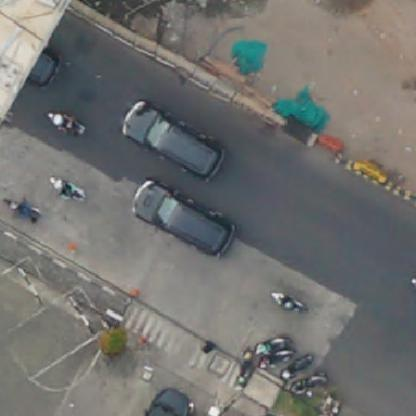Car: (122, 96, 228, 180), (130, 180, 238, 261), (141, 385, 201, 415), (23, 49, 61, 90)
Motorcycle: (46, 108, 90, 144), (2, 194, 48, 226), (48, 172, 88, 208), (271, 288, 311, 318), (235, 349, 253, 388), (256, 337, 292, 352), (281, 363, 314, 377), (258, 356, 296, 368), (291, 380, 332, 391)
